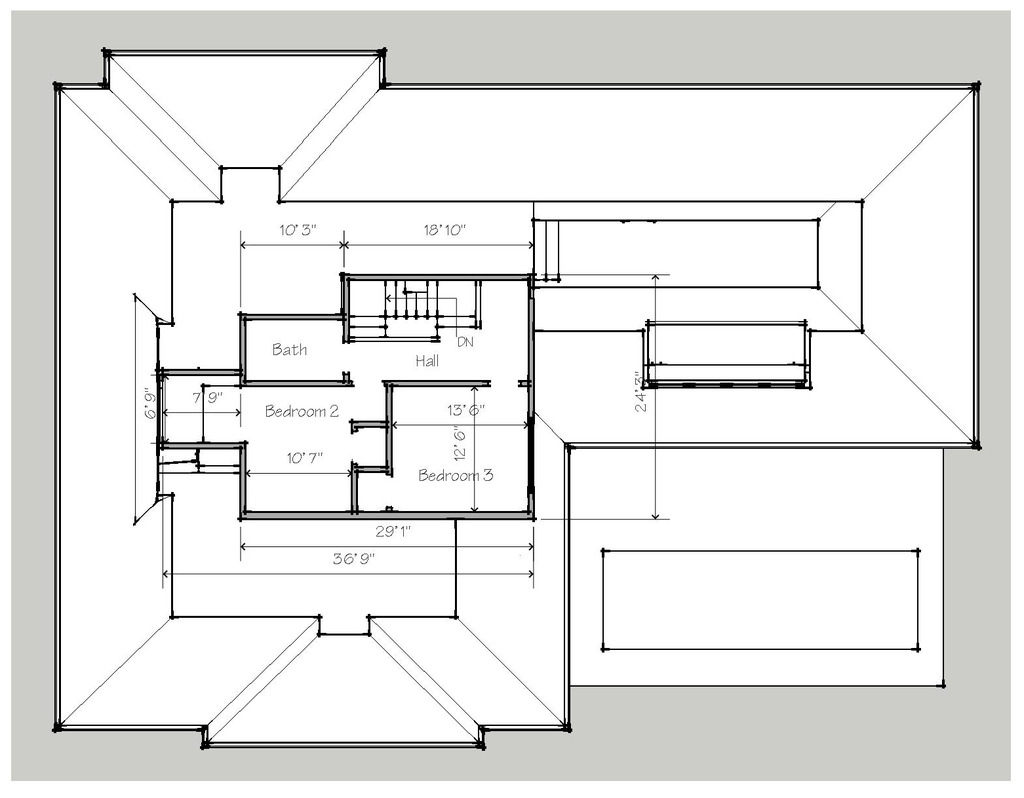stairs: (344, 274, 487, 346)
